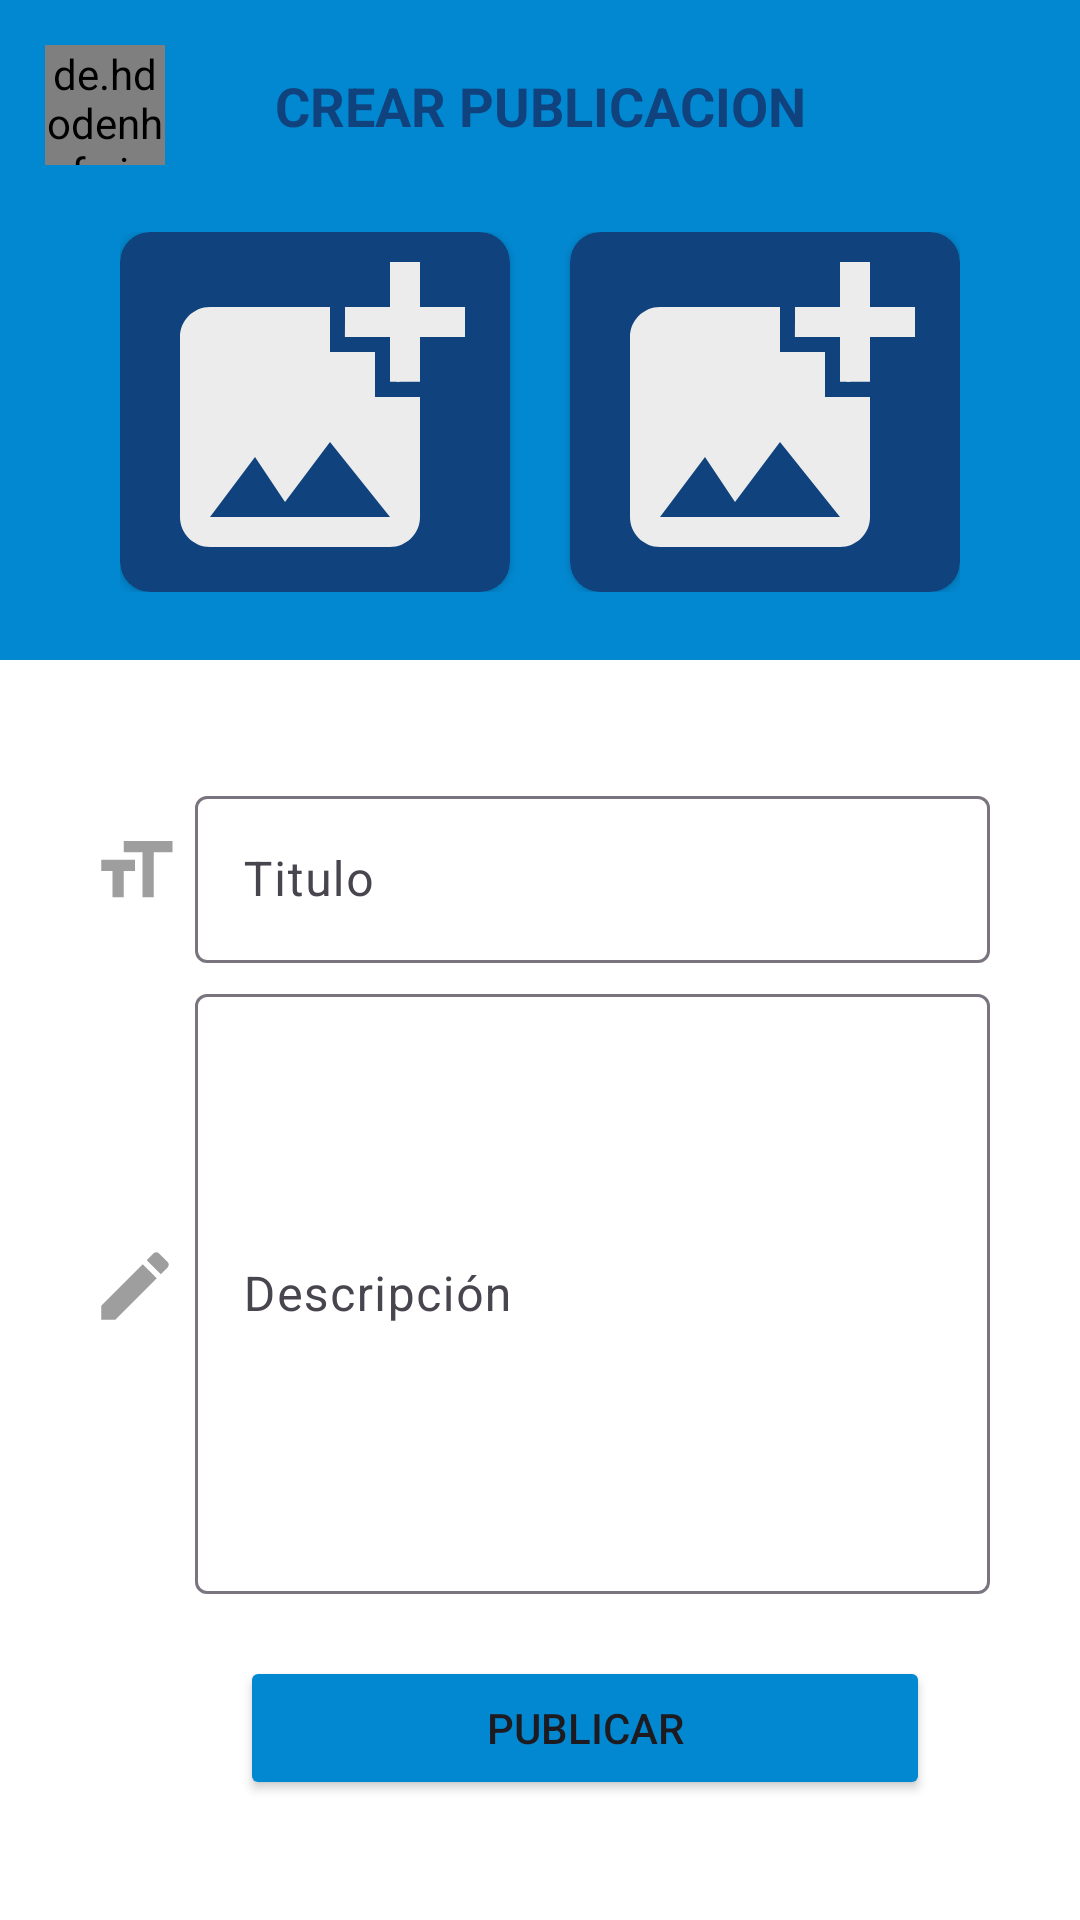

Locate icon controls on the screen. Image size 1080px×1920px, boxes as (left=x1, top=y1, right=x2, bottom=y2).
description: (left=101, top=1252, right=169, bottom=1320)
title: (left=101, top=841, right=173, bottom=897)
